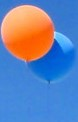Balloon: (1, 5, 55, 62), (26, 31, 75, 82)
